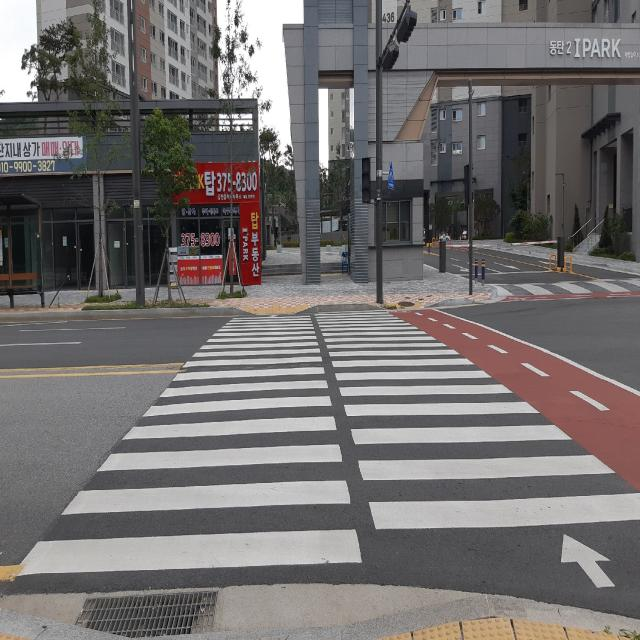횡단보도: (13, 308, 640, 589)
